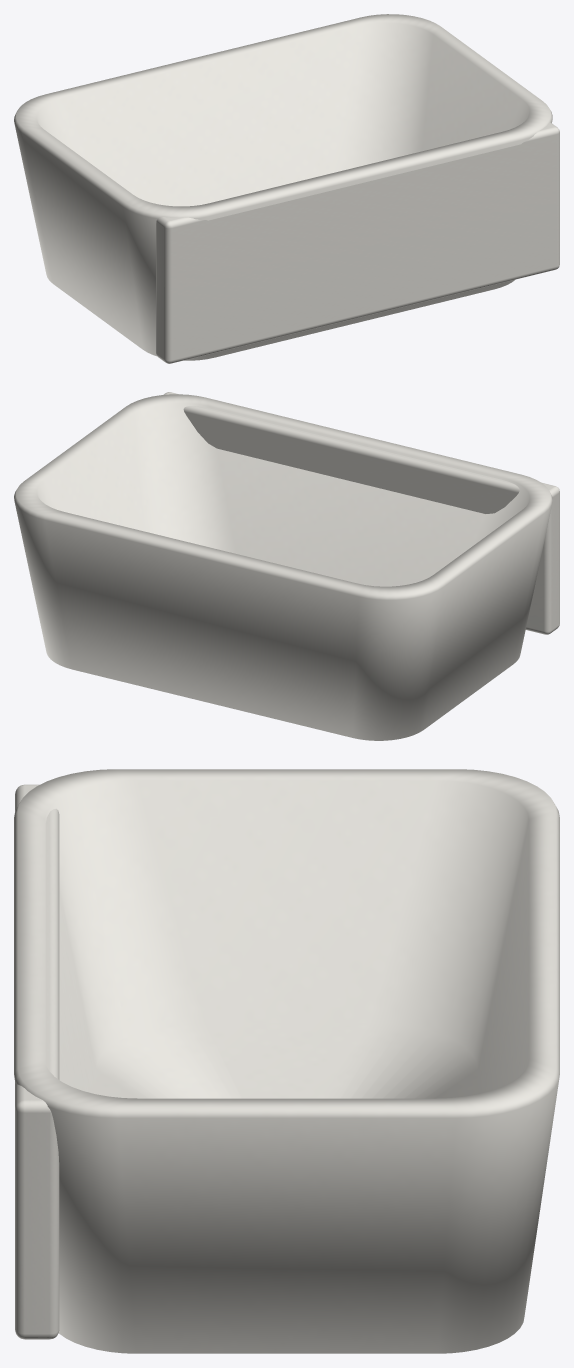
3 views of the same model, one above another, from view 1: azimuth 30°, elevation 25°; view 2: azimuth 150°, elevation 25°; view 3: azimuth 270°, elevation 25° (orthographic). The views are drawn at different scales.
Visible parts, largest first — view 1: Fireclay | deep apron basin, Fireclay | rounded exposed apron; view 2: Fireclay | deep apron basin, Fireclay | rounded exposed apron; view 3: Fireclay | deep apron basin, Fireclay | rounded exposed apron.
Boxes of the visible parts, <box> form: Fireclay | deep apron basin: <box>14,14,552,360</box>; Fireclay | rounded exposed apron: <box>156,122,559,363</box>; Fireclay | deep apron basin: <box>14,394,552,740</box>; Fireclay | rounded exposed apron: <box>163,392,559,634</box>; Fireclay | deep apron basin: <box>14,769,559,1353</box>; Fireclay | rounded exposed apron: <box>15,784,59,1339</box>.
Bounding box in the file's own units: 0.789 × 0.294 × 0.529.
2 materials, 2 textured.
